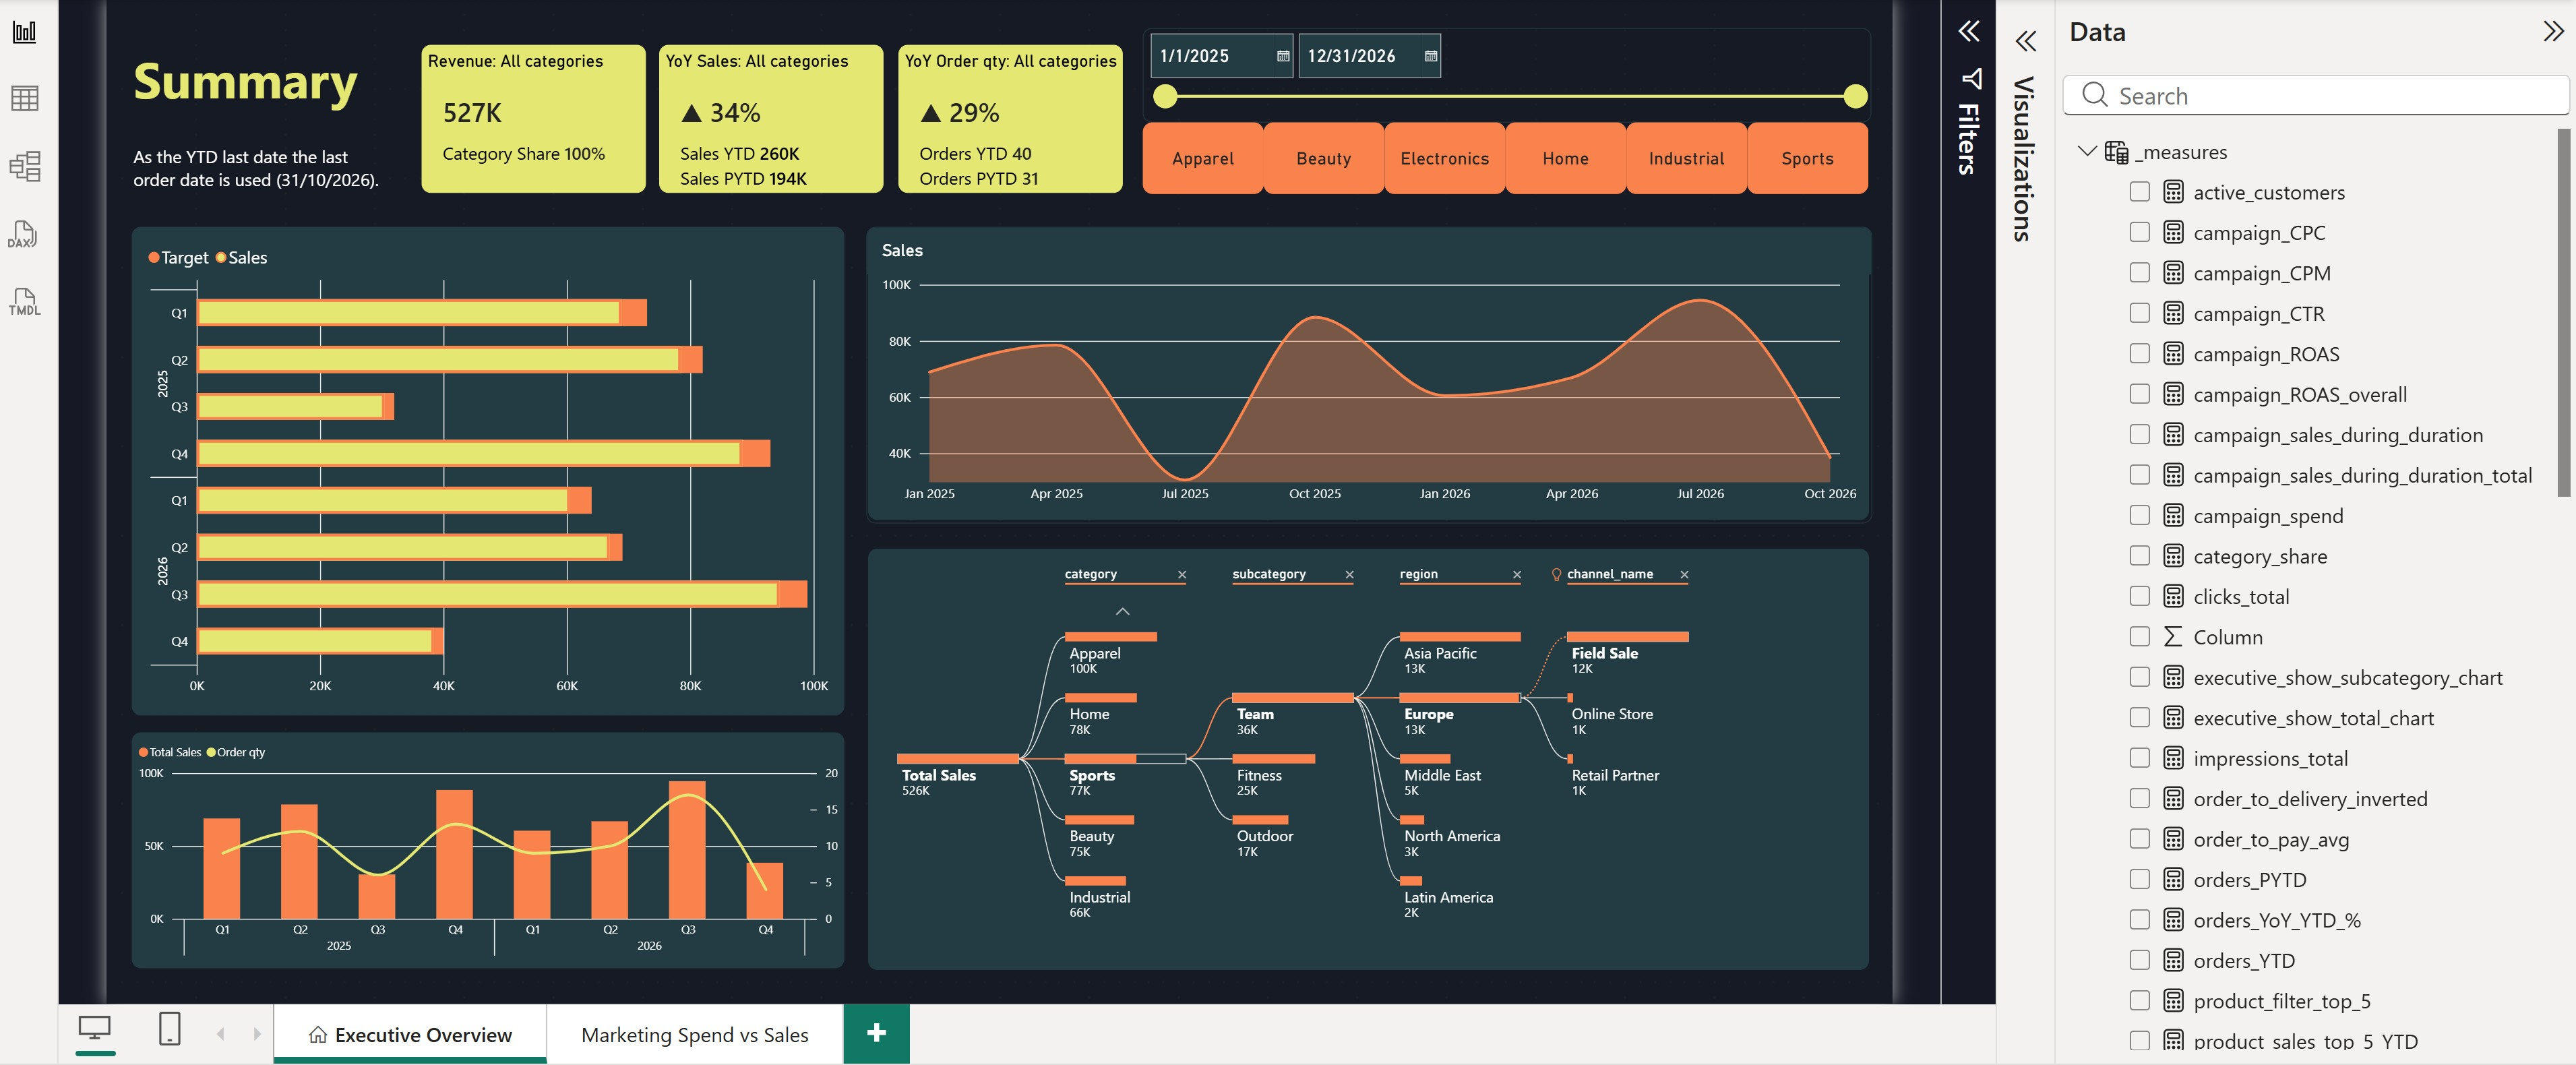

This screenshot's page, from the dashboard's own definition file:
{"tool":"powerbi","page":{"name":"Executive Overview","canvas":[1920,1080],"ordinal":0},"visuals":[{"type":"slicer","fields":{"Values":["dim_date.date"]},"box":[1113.1,30.4,783.4,101.8],"z":0},{"type":"decompositionTreeVisual","fields":{"Analyze":["Sum(fact_sales.line_total)"],"ExplainBy":["dim_products.category","dim_products.subcategory","dim_geo.region","dim_channels.channel_name"]},"box":[818.7,590.5,1075.9,452.8],"z":1000},{"type":"lineClusteredColumnComboChart","fields":{"Category":["dim_date.date.Variation.Date Hierarchy.Year","dim_date.quarter_short","dim_date.month_short"],"Y":["Sum(fact_sales.line_total)"],"Y2":["_measures.total_no_orders"]},"box":[27.2,787.9,766.2,253.6],"z":2000},{"type":"advancedSlicerVisual","fields":{"Values":["dim_products.category"]},"box":[1113.6,131.9,784.3,77.9],"z":3000},{"type":"cardVisual","fields":{"Data":["_measures.total_order_value"]},"box":[338.6,49.8,241,159.4],"z":4000},{"type":"cardVisual","fields":{"Data":["_measures.sales_YoY_YTD_%"]},"box":[594.9,49.8,241,159.4],"z":5000},{"type":"cardVisual","fields":{"Data":["_measures.orders_YoY_YTD_%"]},"box":[851.2,49.8,241,159.4],"z":6000},{"type":"textbox","box":[29,48.9,260.8,70.6],"z":7000},{"type":"clusteredBarChart","fields":{"Category":["dim_date.date.Variation.Date Hierarchy.Year","dim_date.quarter_short","dim_date.month_short"],"Y":["Sum(fact_sales_targets.target_revenue)","Sum(fact_sales.line_total)"]},"box":[27.2,244.5,766.2,525.3],"z":8000},{"type":"stackedAreaChart","fields":{"Category":["dim_date.date.Variation.Date Hierarchy.Year","dim_date.date.Variation.Date Hierarchy.Quarter","dim_date.date.Variation.Date Hierarchy.Month"],"Series":["dim_products.subcategory"],"Y":["_measures.total_order_value_with_0"]},"box":[818.7,271.7,1075.9,288],"z":9000},{"type":"stackedAreaChart","title":"Sales","fields":{"Category":["dim_date.date.Variation.Date Hierarchy.Year","dim_date.date.Variation.Date Hierarchy.Quarter","dim_date.date.Variation.Date Hierarchy.Month"],"Y":["_measures.total_order_value_with_0"]},"box":[816.9,244.5,1081.4,318.8],"z":10000},{"type":"textbox","box":[29,155.8,277.1,54.3],"z":11000}]}

Visuals, with their boxes on the page's 1920x1080 design canvas (x1, y1, x2, y2). These are canvas units, not pixel positions in the 2576x1065 screenshot, which may show the page scaled, cropped or inside an application window:
slicer - dim_date.date: [x1=1113, y1=30, x2=1896, y2=132]
decompositionTreeVisual - Sum(fact_sales.line_total) x dim_products.category: [x1=819, y1=590, x2=1895, y2=1043]
lineClusteredColumnComboChart - dim_date.date.Variation.Date Hierarchy.Year x dim_date.quarter_short: [x1=27, y1=788, x2=793, y2=1042]
advancedSlicerVisual - dim_products.category: [x1=1114, y1=132, x2=1898, y2=210]
cardVisual - _measures.total_order_value: [x1=339, y1=50, x2=580, y2=209]
cardVisual - _measures.sales_YoY_YTD_%: [x1=595, y1=50, x2=836, y2=209]
cardVisual - _measures.orders_YoY_YTD_%: [x1=851, y1=50, x2=1092, y2=209]
textbox: [x1=29, y1=49, x2=290, y2=120]
clusteredBarChart - dim_date.date.Variation.Date Hierarchy.Year x dim_date.quarter_short: [x1=27, y1=244, x2=793, y2=770]
stackedAreaChart - dim_date.date.Variation.Date Hierarchy.Year x dim_date.date.Variation.Date Hierarchy.Quarter: [x1=819, y1=272, x2=1895, y2=560]
"Sales" stackedAreaChart: [x1=817, y1=244, x2=1898, y2=563]
textbox: [x1=29, y1=156, x2=306, y2=210]
